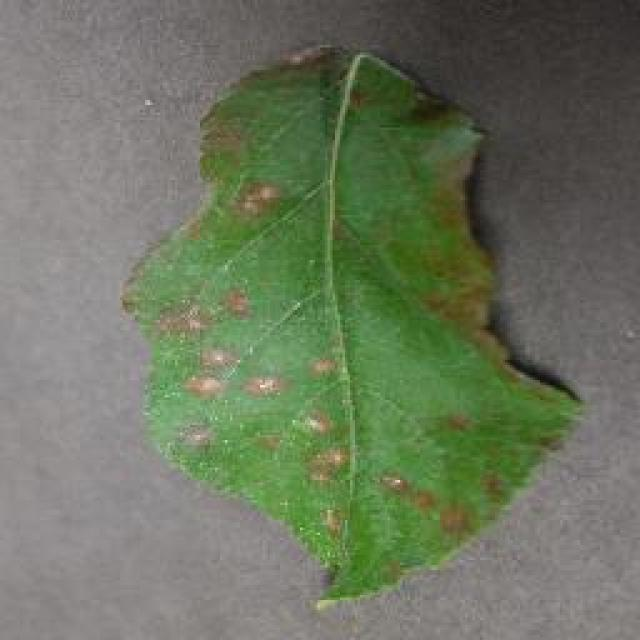apple healthy: (117, 40, 585, 610)
